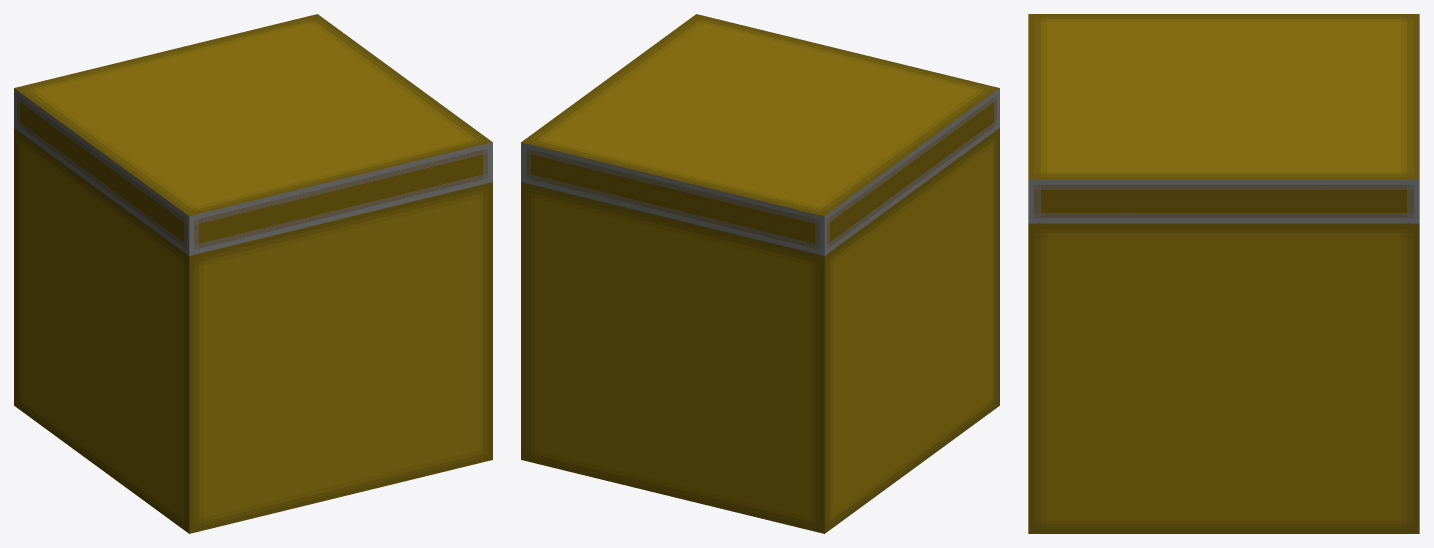
Rendered from chest.gltf.
The picture shows the model from 3 angles, left to right: view 1: azimuth 30°, elevation 25°; view 2: azimuth 150°, elevation 25°; view 3: azimuth 270°, elevation 25°; orthographic projection. The views are drawn at different scales.
Visible parts, largest first — view 1: mesh, coperchio; view 2: mesh, coperchio; view 3: mesh, coperchio.
Boxes of the visible parts, x1,y1,x2,y2 form: mesh: (14, 128, 492, 533); coperchio: (14, 14, 492, 255); mesh: (521, 128, 999, 533); coperchio: (521, 14, 999, 255); mesh: (1028, 223, 1419, 533); coperchio: (1028, 14, 1419, 223).
Bounding box in the file's own units: 0.5 × 0.5 × 0.5.
Materials: 1 (1 with a texture image).
